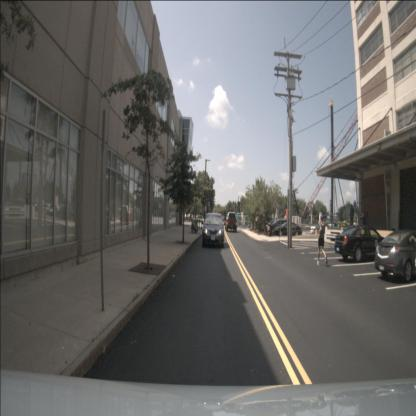human-pedestrian-adult: (316, 215, 328, 265), (350, 204, 354, 229)
vehicle-car: (374, 229, 416, 284), (334, 225, 390, 263), (202, 213, 224, 248), (273, 221, 302, 237), (268, 218, 292, 235), (58, 204, 76, 222), (120, 205, 135, 224), (225, 211, 237, 233), (41, 203, 55, 216), (310, 224, 326, 235)
vehicle-motorcycle: (191, 218, 198, 234)
